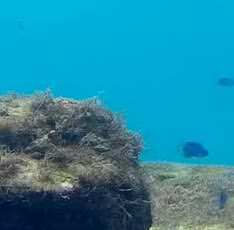smallfish: (175, 141, 209, 163)
